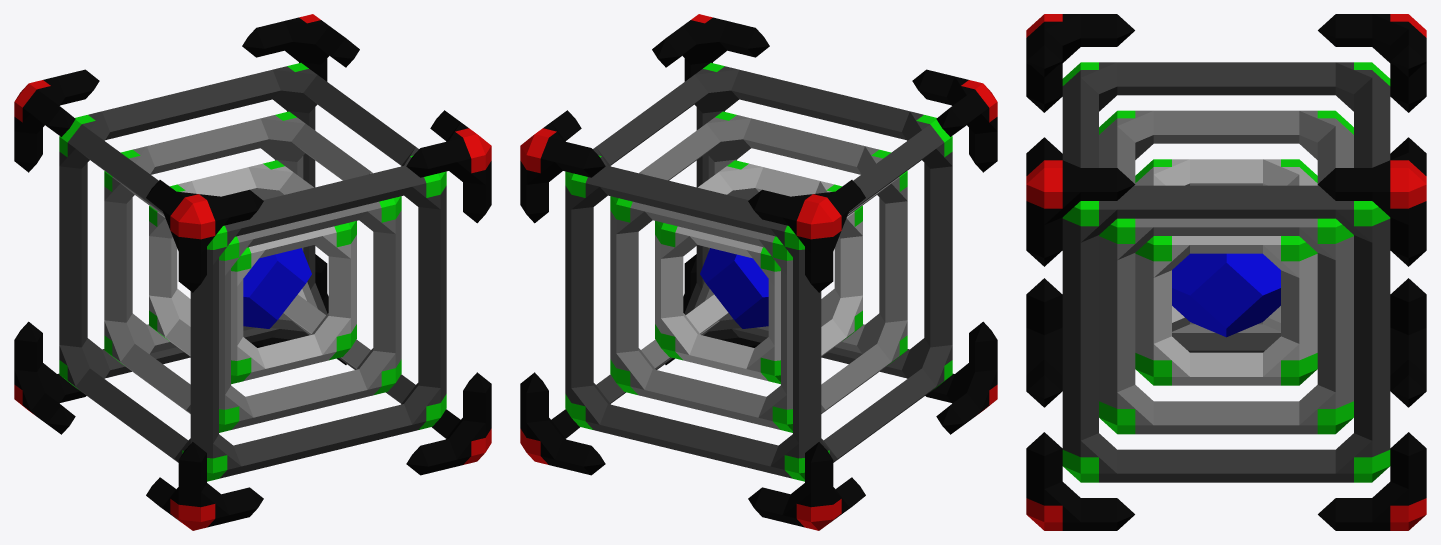
File: obj_auron_bophose_turret.fbx
The picture shows the model from 3 angles, left to right: view 1: azimuth 30°, elevation 25°; view 2: azimuth 150°, elevation 25°; view 3: azimuth 270°, elevation 25°; orthographic projection. The views are drawn at different scales.
Visible parts, largest first — view 1: obj_auron_bophose_turret; view 2: obj_auron_bophose_turret; view 3: obj_auron_bophose_turret.
Boxes of the visible parts, left/top/right/bottom form: obj_auron_bophose_turret: left=14, top=14, right=491, bottom=530; obj_auron_bophose_turret: left=520, top=14, right=997, bottom=530; obj_auron_bophose_turret: left=1026, top=14, right=1426, bottom=530.
Size of the model in its own units: 1100 by 1100 by 1100.
